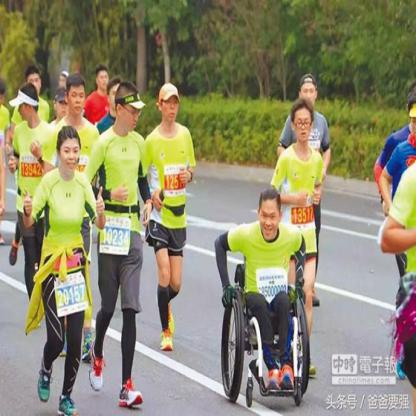wheelchair: (215, 186, 311, 402)
